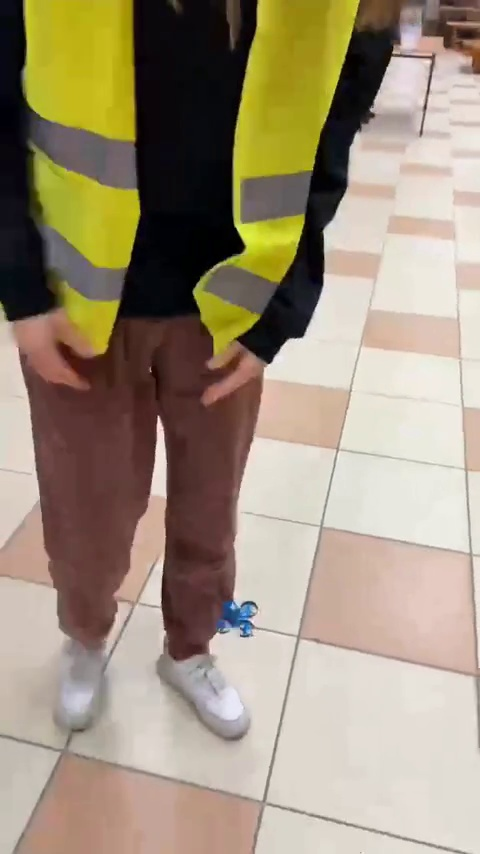drone: (216, 598, 260, 632)
vest: (0, 5, 391, 743)
